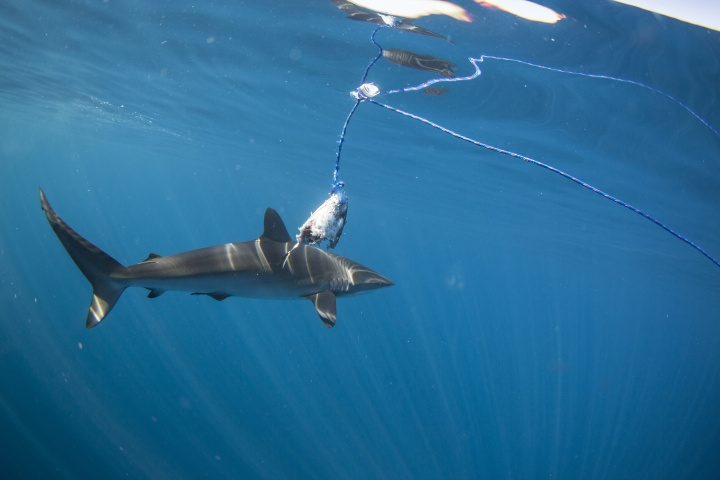Sedoso: (26, 178, 405, 344)
